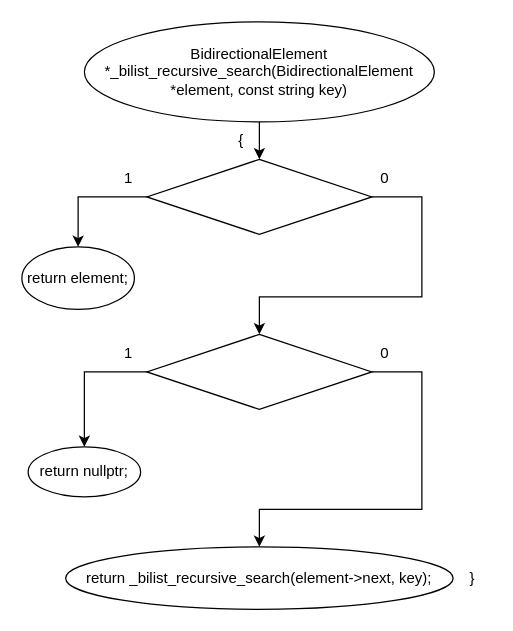
This 513x631 diagram has some shape labels left out. The shapes that lost their labels are listed below. From the top down, each one's box as (x1, y1, x2, y2) in pixels, then its label:
(146, 158, 372, 234): if (element->key == key)
(146, 333, 372, 409): if (element->next == nullptr)
